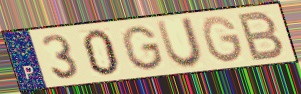0: (81, 28, 123, 77)
3: (41, 33, 81, 80)
B: (236, 9, 286, 63)
G: (200, 14, 247, 65), (119, 24, 166, 72)
U: (154, 15, 206, 71)
